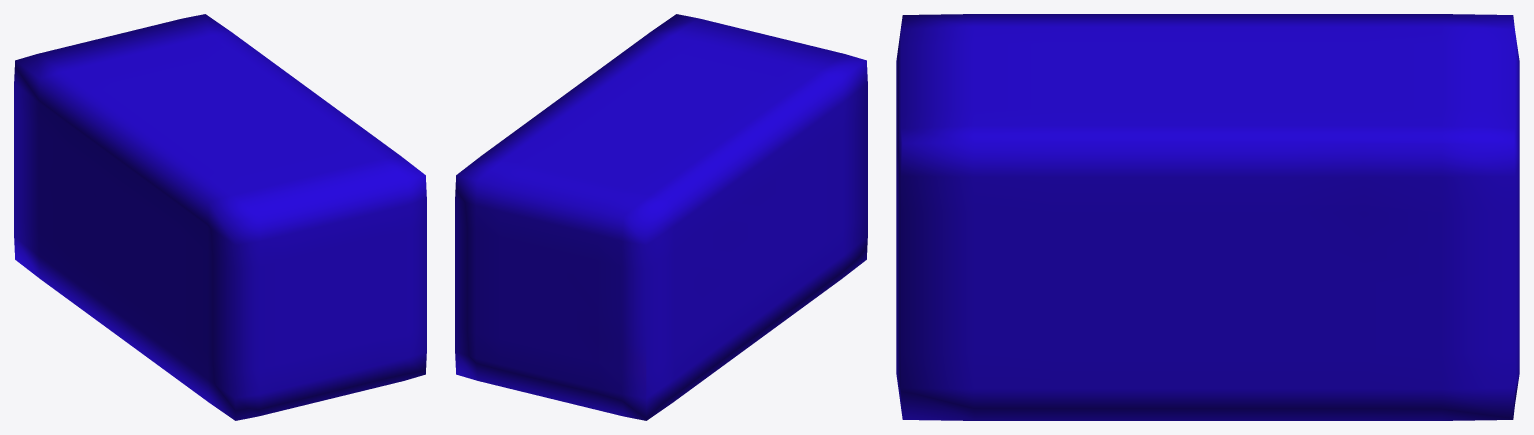
Rendered from BlockLvl3.fbx.
3 renders of one model, left to right at view 1: azimuth 30°, elevation 25°; view 2: azimuth 150°, elevation 25°; view 3: azimuth 270°, elevation 25°, orthographic. The views are drawn at different scales.
Visible parts, largest first — view 1: Cube; view 2: Cube; view 3: Cube.
Part boxes in pixels (left/top/right/bottom): Cube: left=14, top=14, right=426, bottom=420; Cube: left=455, top=14, right=867, bottom=420; Cube: left=896, top=14, right=1519, bottom=420.
Size of the model in its own units: 0.9923 by 0.9926 by 1.99.
